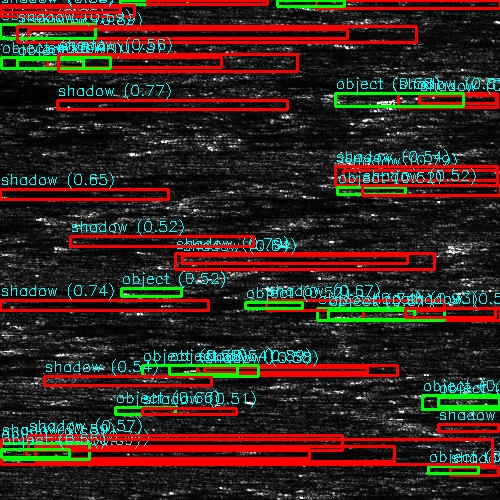rock: (218, 485, 395, 498), (314, 307, 407, 322), (65, 358, 158, 371), (0, 26, 99, 37), (450, 68, 500, 81), (0, 188, 40, 201), (178, 140, 251, 147), (0, 450, 51, 459), (275, 0, 338, 7), (341, 187, 414, 192), (254, 282, 317, 287), (26, 63, 79, 68), (20, 378, 51, 385), (183, 368, 224, 373), (394, 98, 425, 103), (0, 366, 7, 375)
shadow: (47, 26, 451, 37), (0, 300, 304, 313), (25, 450, 423, 459), (4, 188, 202, 201), (112, 358, 310, 371), (307, 485, 500, 498), (0, 101, 310, 108), (361, 307, 500, 322), (307, 0, 500, 7), (204, 368, 408, 373), (53, 63, 255, 68), (36, 378, 166, 385), (0, 366, 99, 375), (0, 348, 64, 361), (0, 8, 107, 15), (215, 140, 285, 147), (410, 98, 500, 103), (378, 187, 450, 192), (286, 282, 355, 287), (0, 404, 64, 409)
